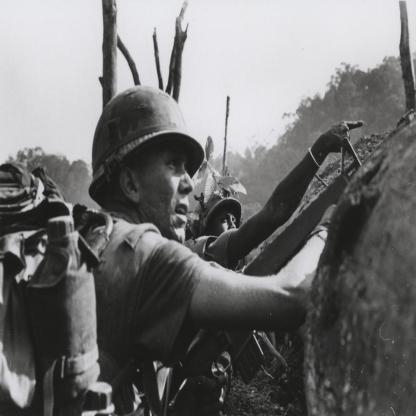Helmet: (95, 90, 203, 212)
